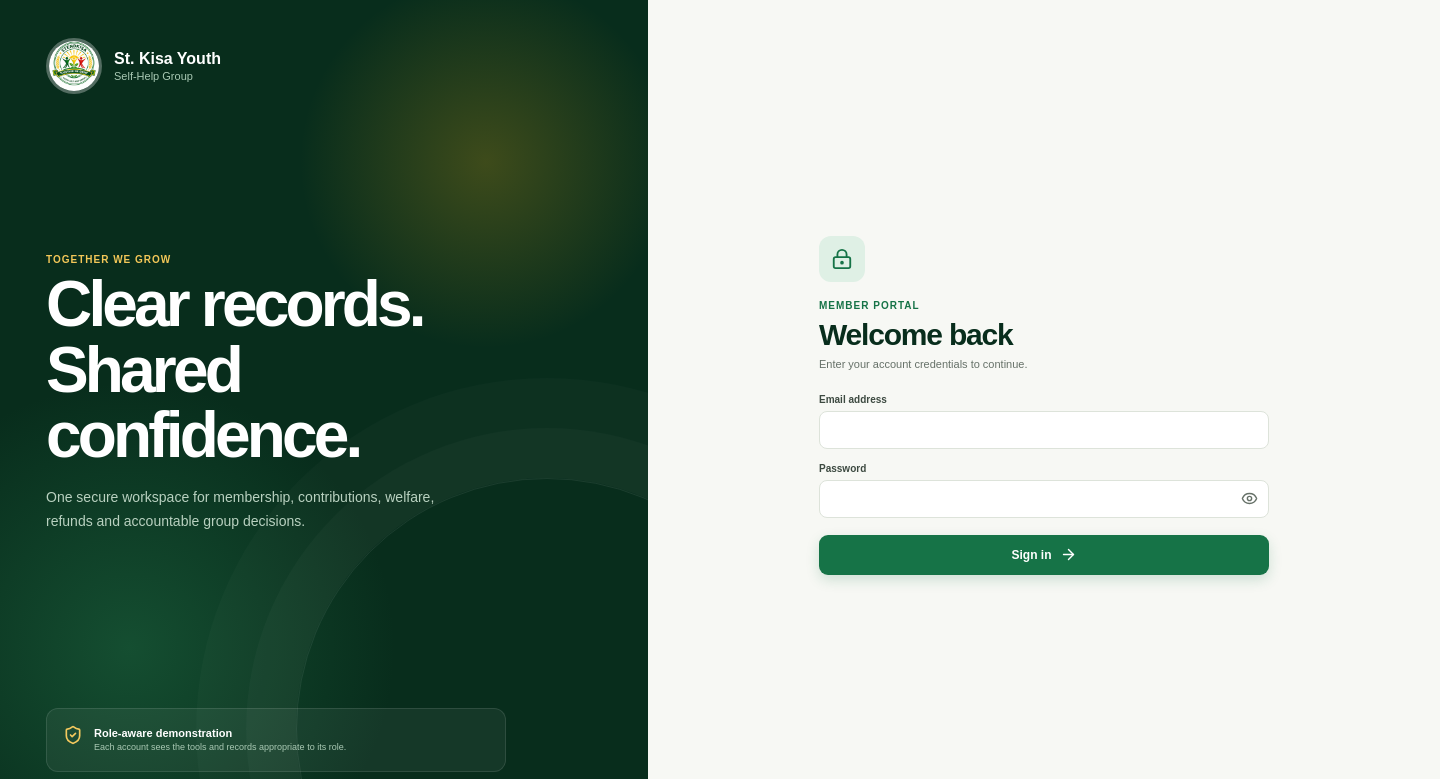
Test: St. Kisa member portal › keeps credentials private, starts empty, and accepts manual login
Check: the heading "Welcome back" is shown, box [819,318,1012,350]
Check: the password field labelled "Password" is empty, box [819,480,1269,518]
Type "admin@stkisa.org" into the field labelled "Email address". click: [1044, 430]
box: [819,410,1269,448]
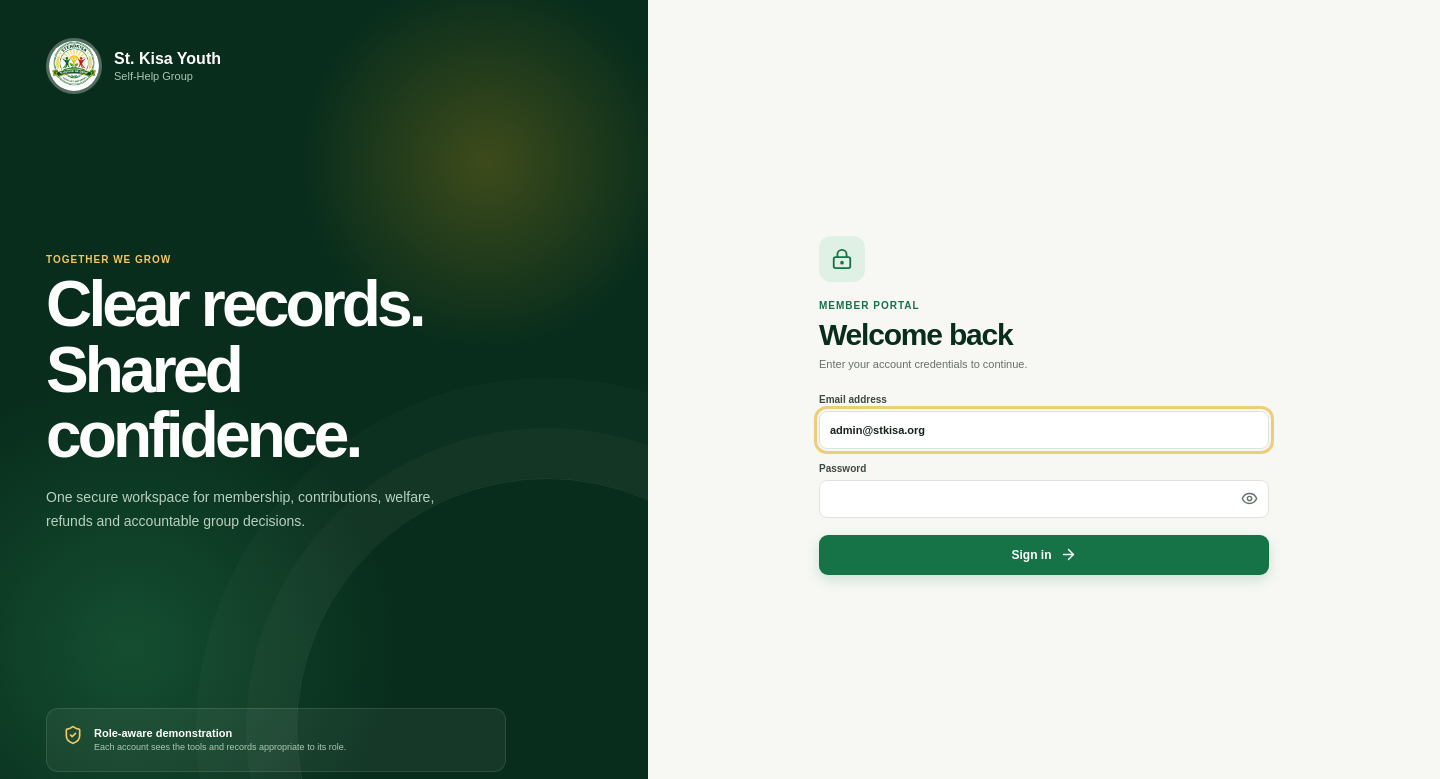
Type "Demo@2026" into the password field labelled "Password". click: [1044, 498]
box: [819,480,1269,518]
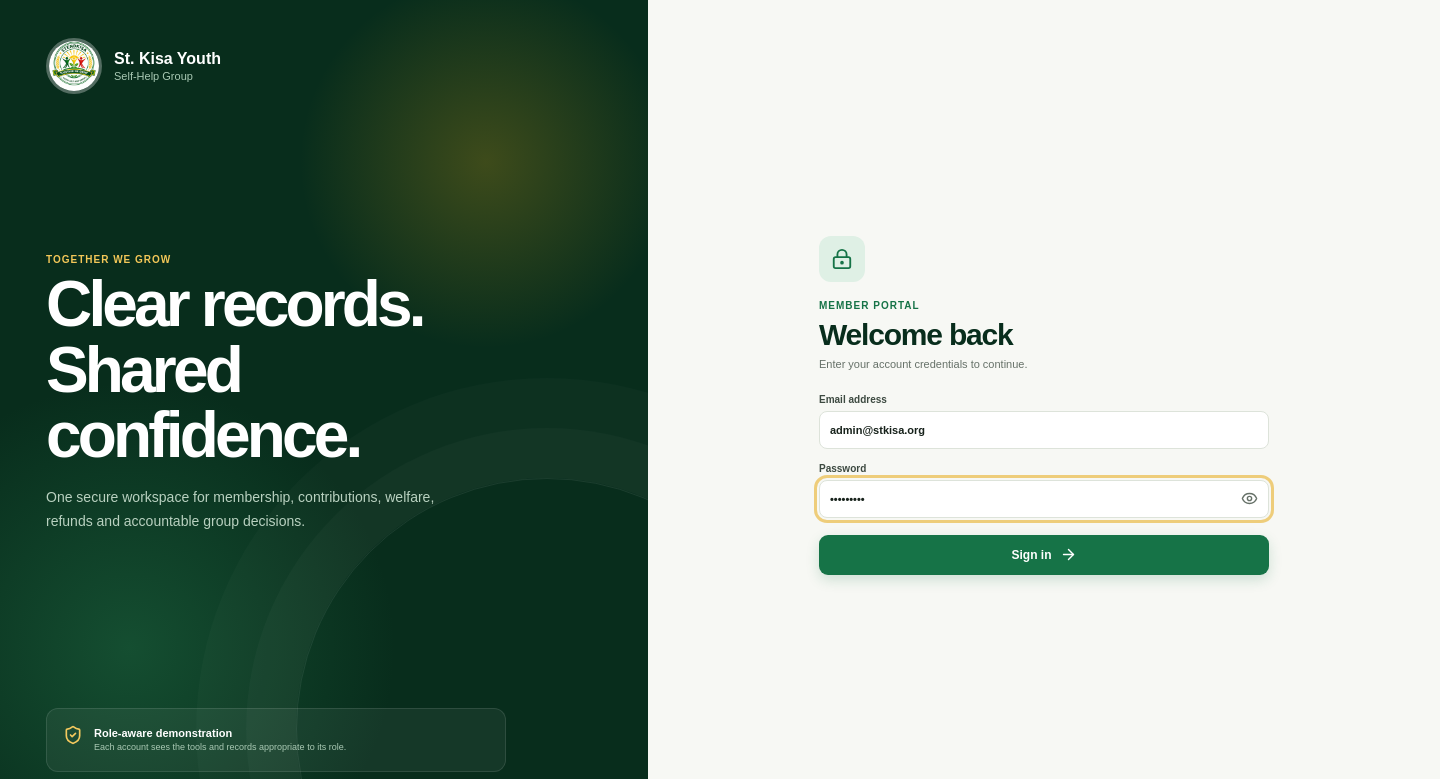
Click the button "Sign in". click: [1044, 554]
box: [819,534,1269,574]
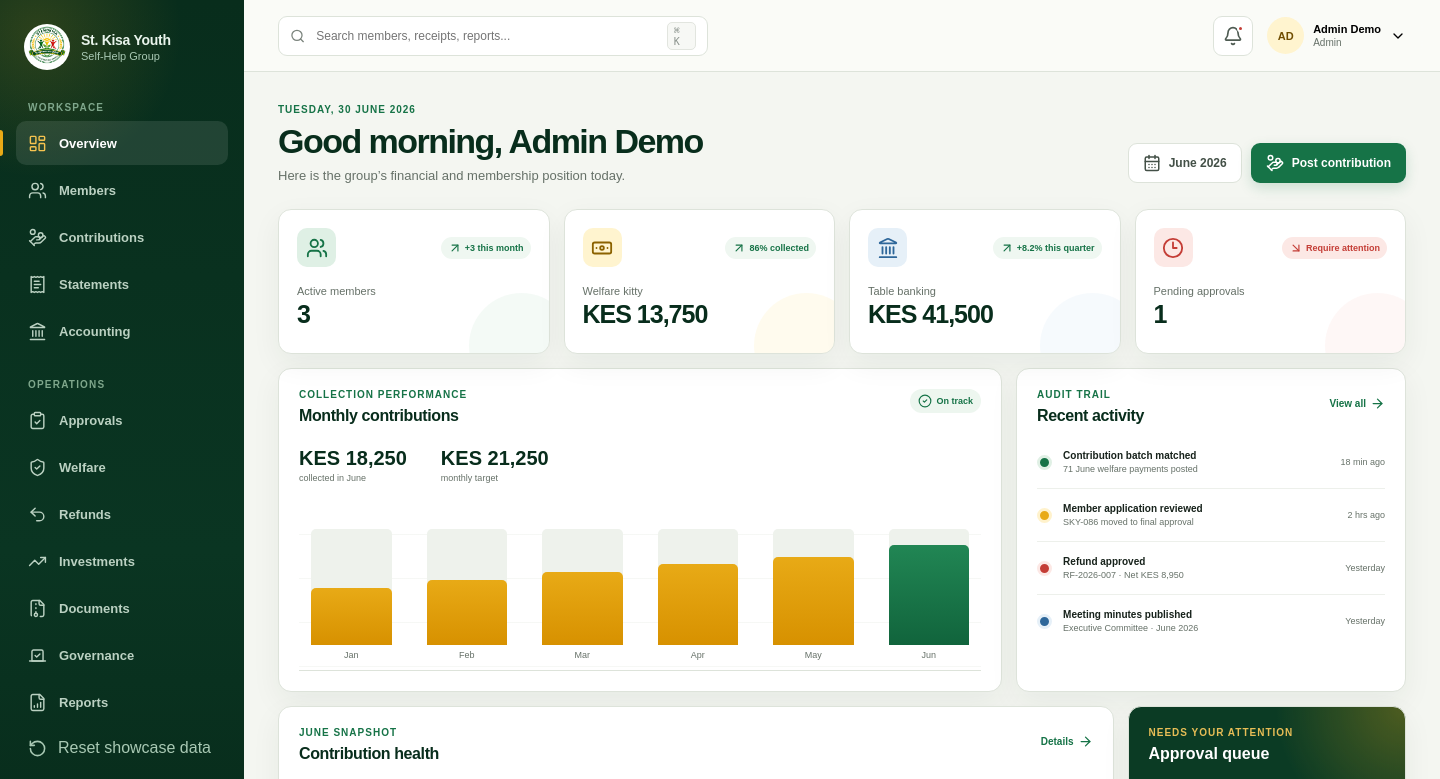
Check: the heading "Good morning, Admin Demo" is shown, box [278,122,703,161]
Check: the link "Members" is shown, box [28,180,116,200]
